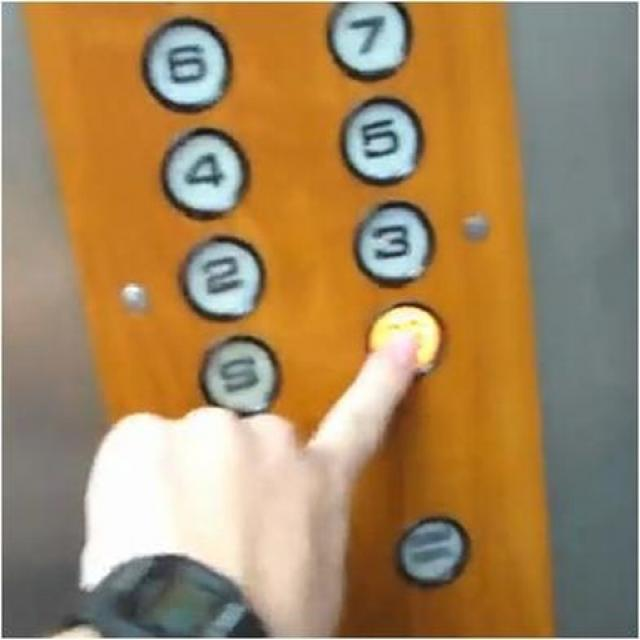2: (177, 230, 266, 322)
3: (348, 198, 437, 290)
4: (154, 123, 252, 220)
5: (336, 92, 424, 187)
6: (138, 12, 232, 113)
7: (321, 0, 412, 83)
S: (193, 328, 284, 416)
text_blur: (396, 514, 471, 590)
